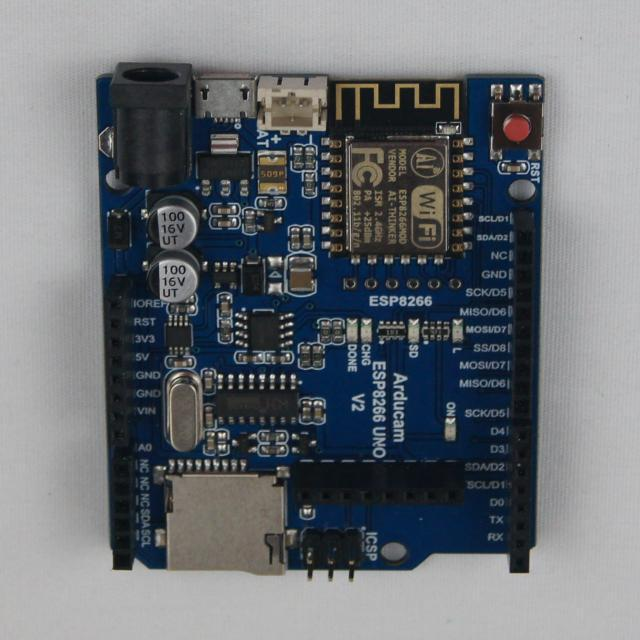Arduino Uno Camera Shield: (97, 64, 544, 579)
